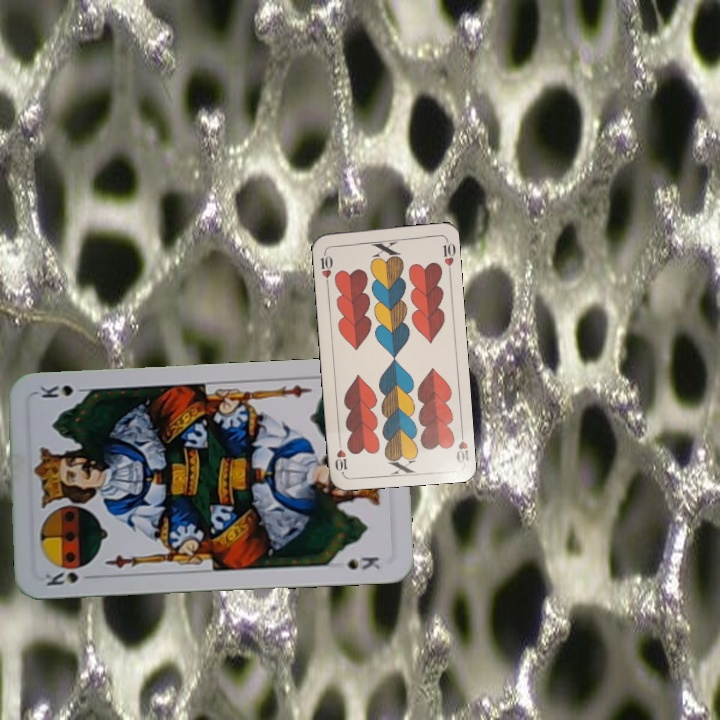H10: (451, 425, 471, 465), (316, 246, 335, 287)
SK: (41, 568, 98, 588)
